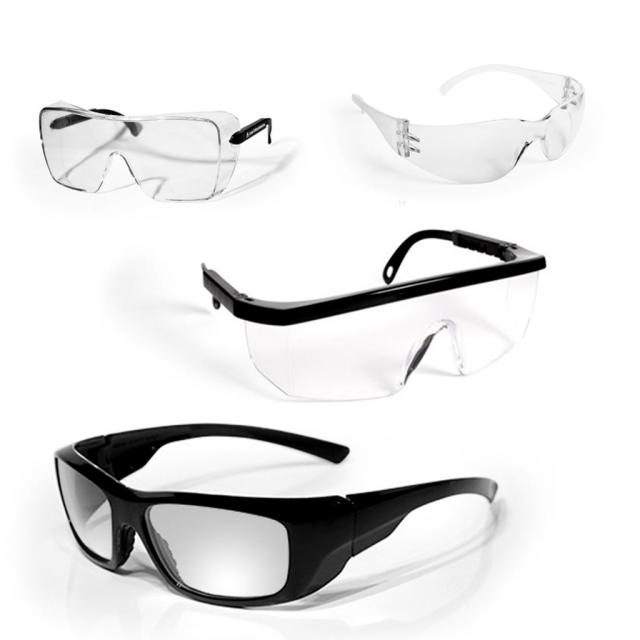Protective Glasses: (38, 412, 530, 609), (180, 220, 572, 402), (330, 60, 599, 204), (24, 78, 297, 215)
